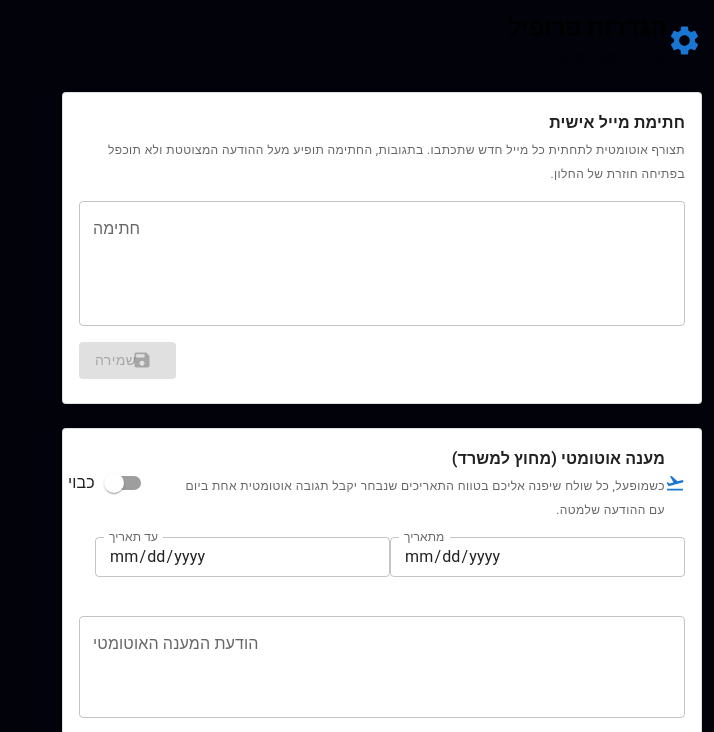
ProfileSettings — signature editor › saves the edited signature via updateSignature and shows a success confirmation
Type "חתימה חדשה" into the text box with test id "signature-textfield". click: (382, 264)
box: 93,218 -> 671,310
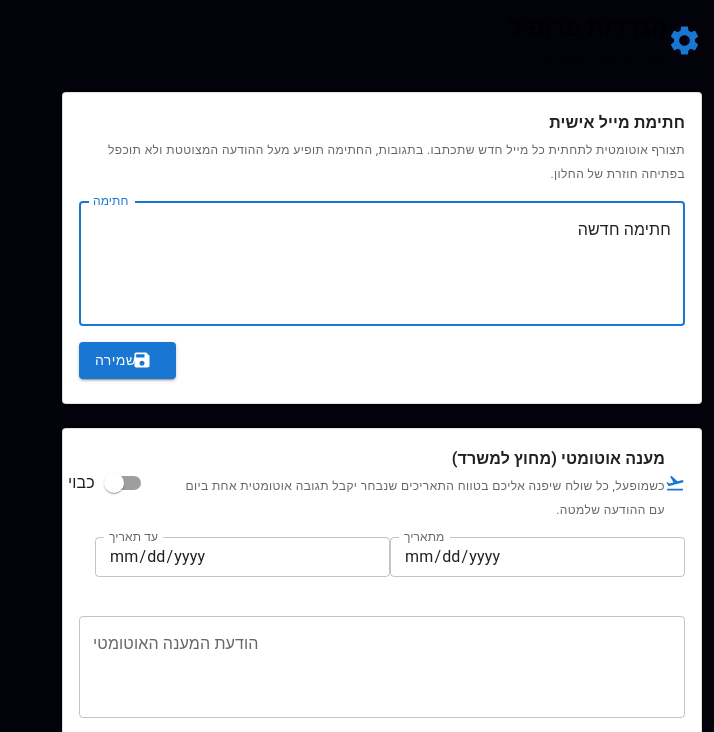
Click the button with test id "save-signature-button". click: (128, 360)
box: 79,342 -> 176,378
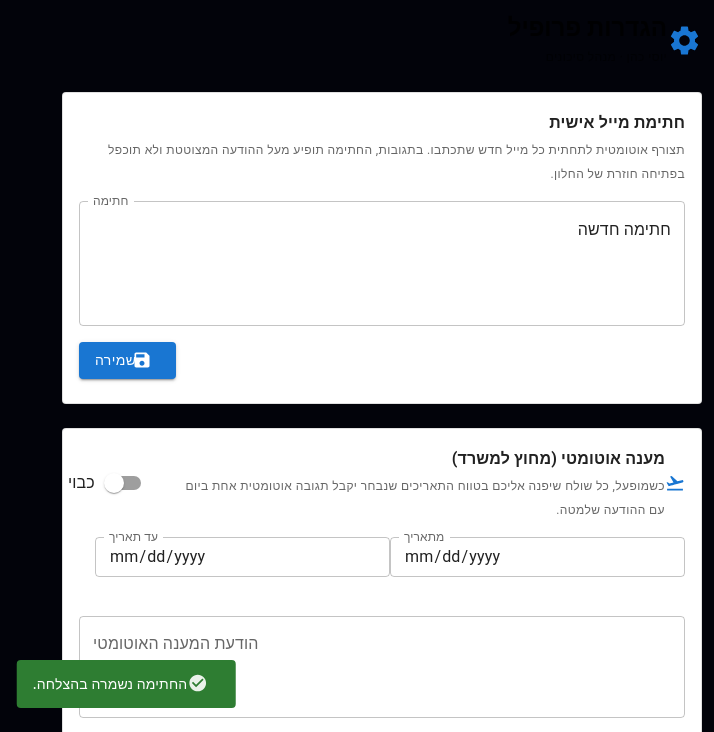
Expected: the text "החתימה נשמרה בהצלחה." is shown, 33,676 -> 187,692
